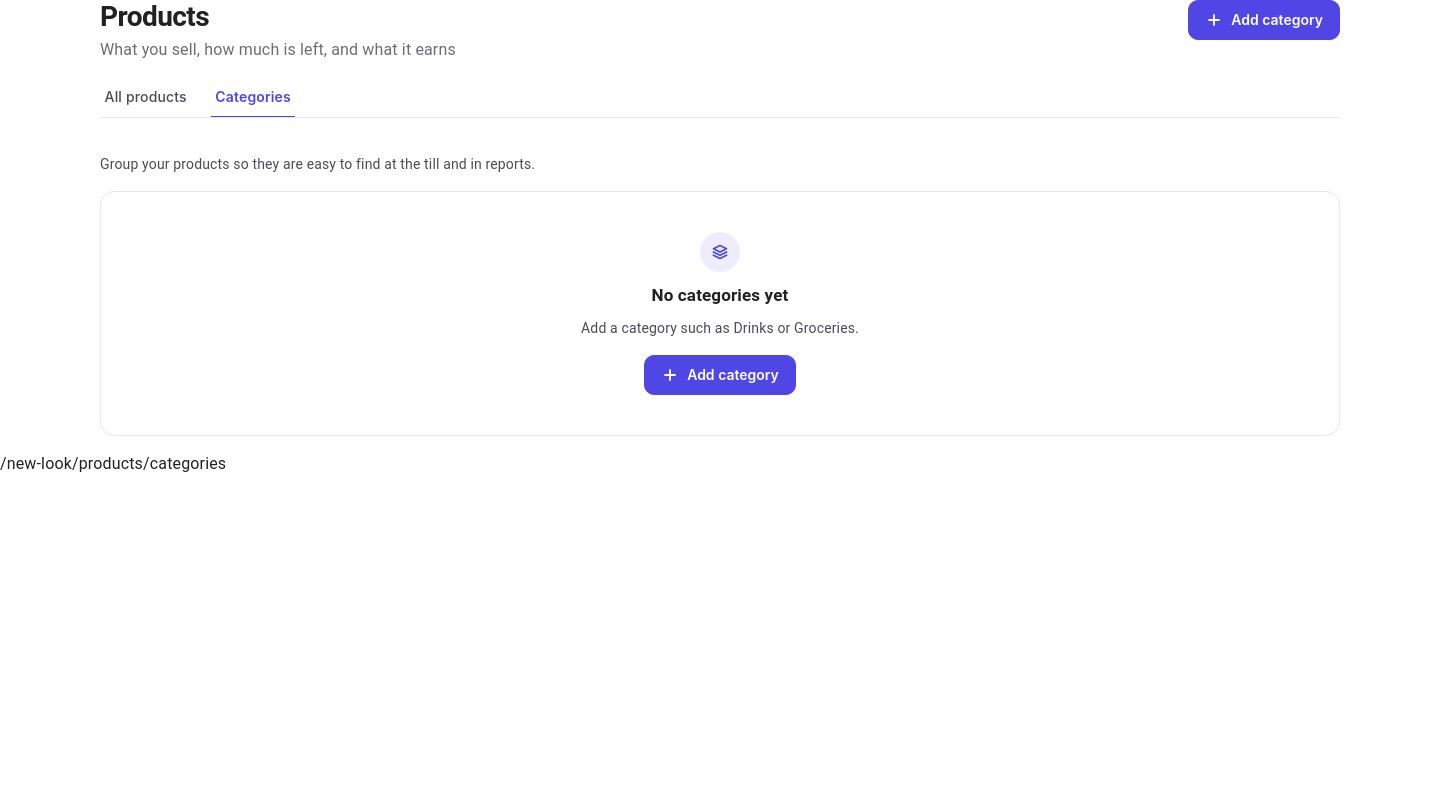
Test case: the list › with no categories the page says what to do
Expected: the heading "No categories yet" is shown, [652,284,788,306]
Click the 1st button "Add category" at x=1264, y=20, box [1188,0,1340,40]
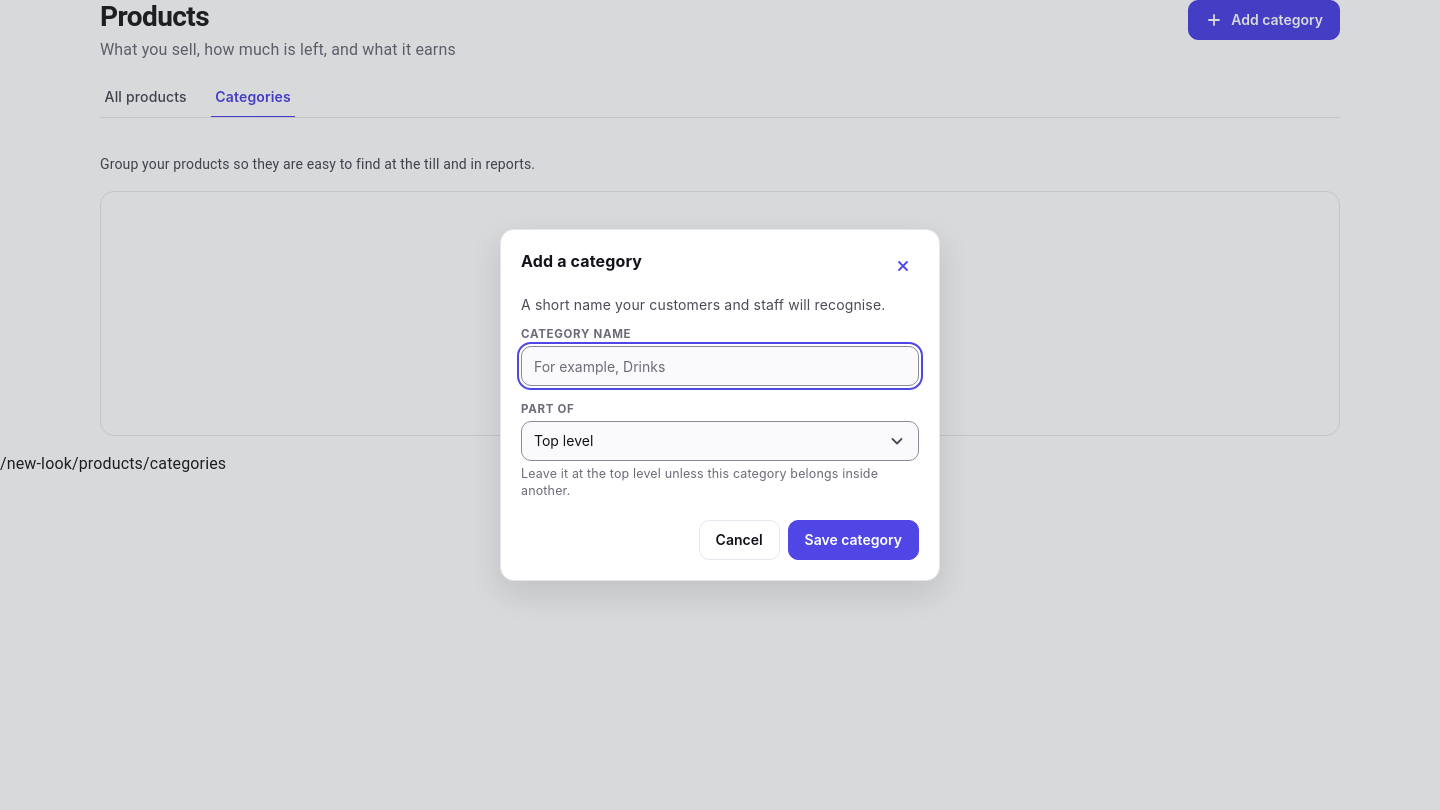
Now the dialog "Add a category" is shown, box [500,229,940,581]
